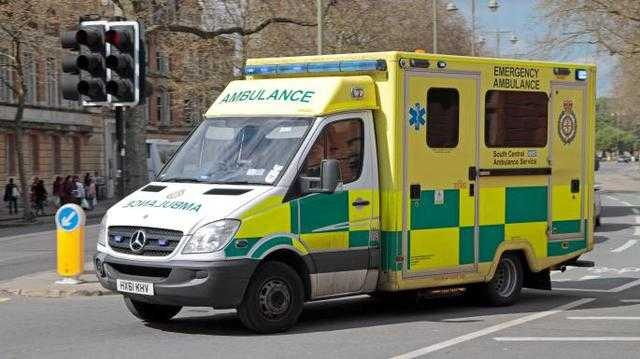Ambulance: (99, 44, 618, 328)
